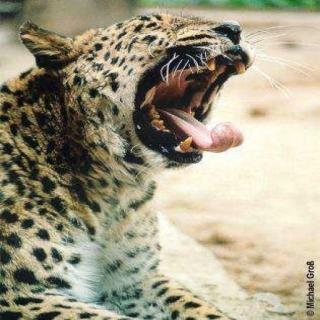Leopard: (5, 0, 286, 320)
